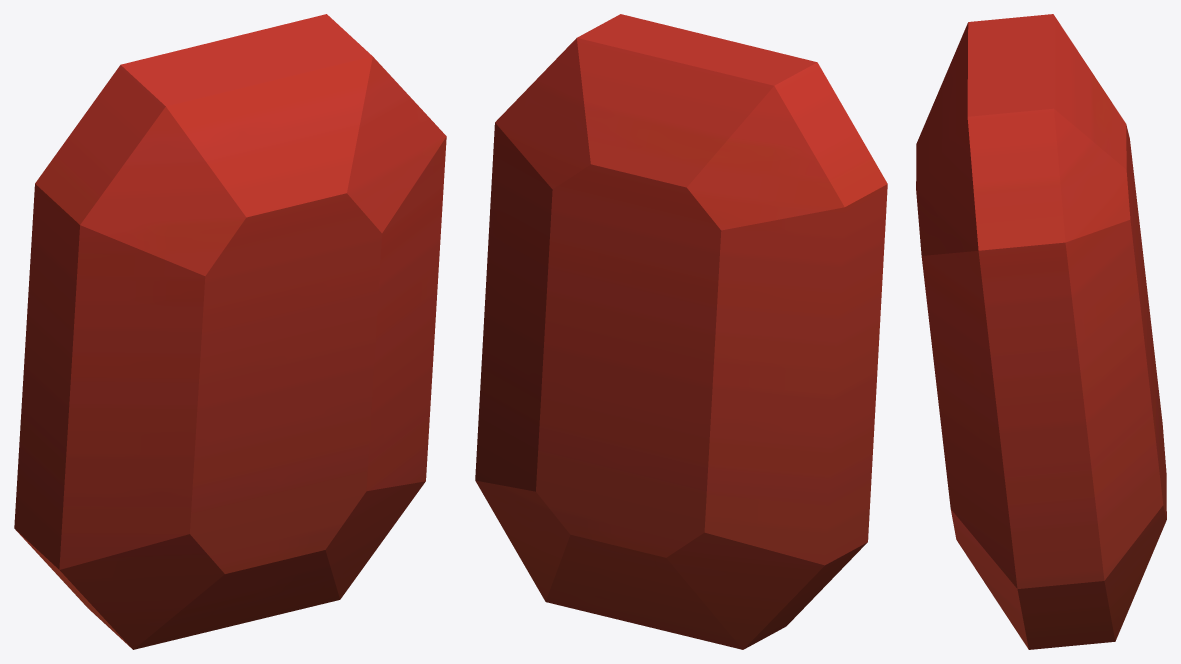
Rendered from ruby.glb.
The picture shows the model from 3 angles, left to right: view 1: azimuth 30°, elevation 25°; view 2: azimuth 150°, elevation 25°; view 3: azimuth 270°, elevation 25°; orthographic projection. The views are drawn at different scales.
Parts seen in each view (by area): view 1: SM_Ruby_Gem2; view 2: SM_Ruby_Gem2; view 3: SM_Ruby_Gem2.
Part boxes in pixels (x1,y1,x2,y2): SM_Ruby_Gem2: (14, 14, 446, 649); SM_Ruby_Gem2: (475, 14, 887, 649); SM_Ruby_Gem2: (916, 14, 1166, 649).
Bounding box in the file's own units: 0.3343 × 0.5029 × 0.2112.
1 material, 1 textured.
